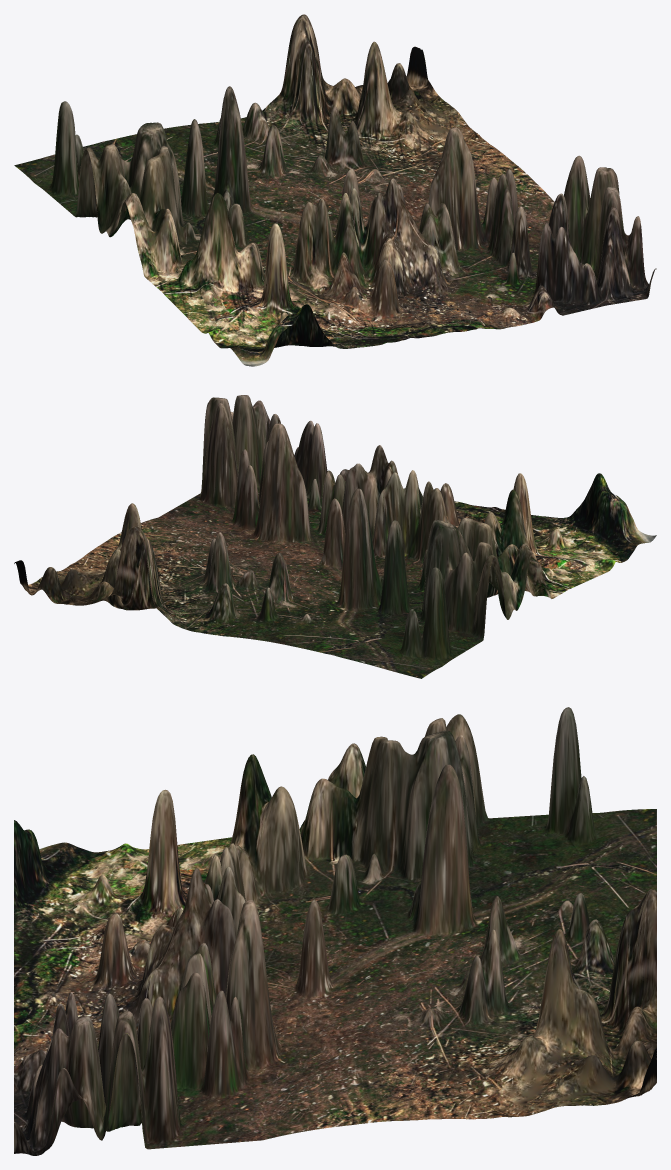
File: terrain-256.glb
3 renders of one model, top to bottom at view 1: azimuth 30°, elevation 25°; view 2: azimuth 150°, elevation 25°; view 3: azimuth 270°, elevation 25°, orthographic. The views are drawn at different scales.
Parts seen in each view (by area): view 1: Estimated terrain; view 2: Estimated terrain; view 3: Estimated terrain.
Boxes of the visible parts, x1,y1,x2,y2 form: Estimated terrain: (14, 14, 656, 366); Estimated terrain: (14, 395, 656, 678); Estimated terrain: (14, 707, 656, 1155).
Bounding box in the file's own units: 120 × 44.69 × 120.
1 material, 1 textured.
